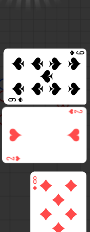2H: (67, 109, 83, 116)
8D: (31, 175, 38, 192)
